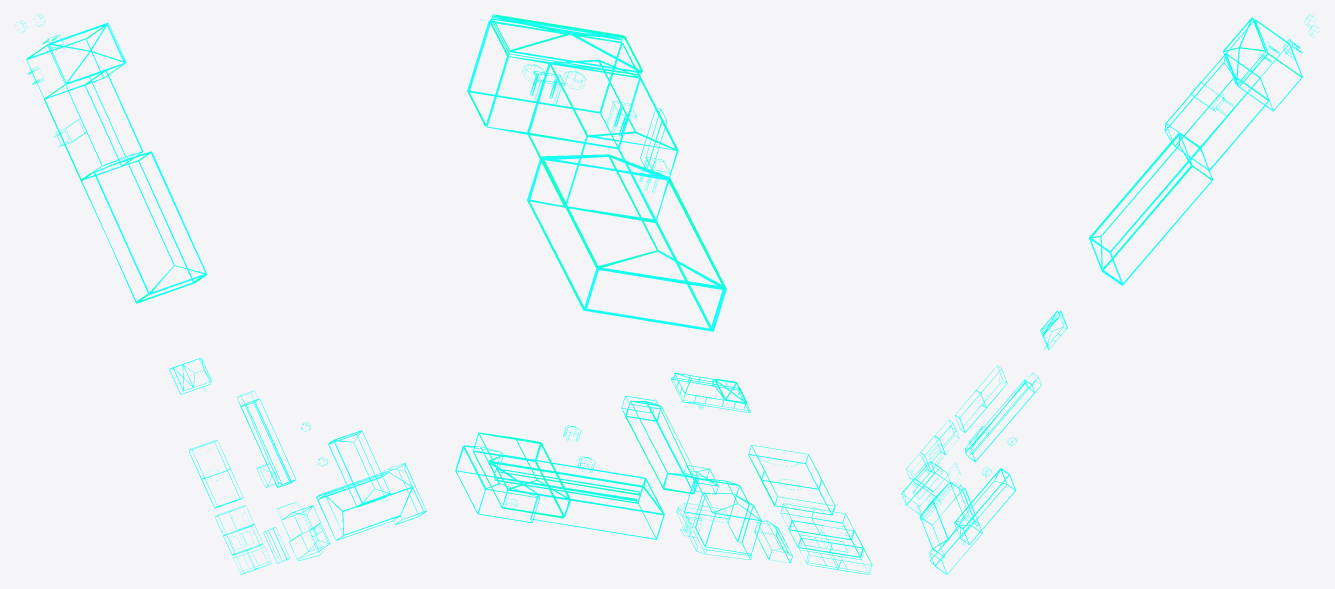
The picture shows the model from 3 angles, left to right: view 1: azimuth 30°, elevation 25°; view 2: azimuth 150°, elevation 25°; view 3: azimuth 270°, elevation 25°; orthographic projection. The views are drawn at different scales.
Parts seen in each view (by area): view 1: others, blockB; view 2: others, blockB; view 3: others, blockB.
Boxes of the visible parts, x1=… form: others: x1=15, y1=14, x2=426, y2=574; blockB: x1=328, y1=430, x2=390, y2=507; others: x1=455, y1=14, x2=872, y2=574; blockB: x1=473, y1=432, x2=571, y2=518; others: x1=901, y1=14, x2=1319, y2=574; blockB: x1=954, y1=468, x2=1015, y2=546.
Bounding box in the file's own units: 4.79 × 8.2 × 6.97.
